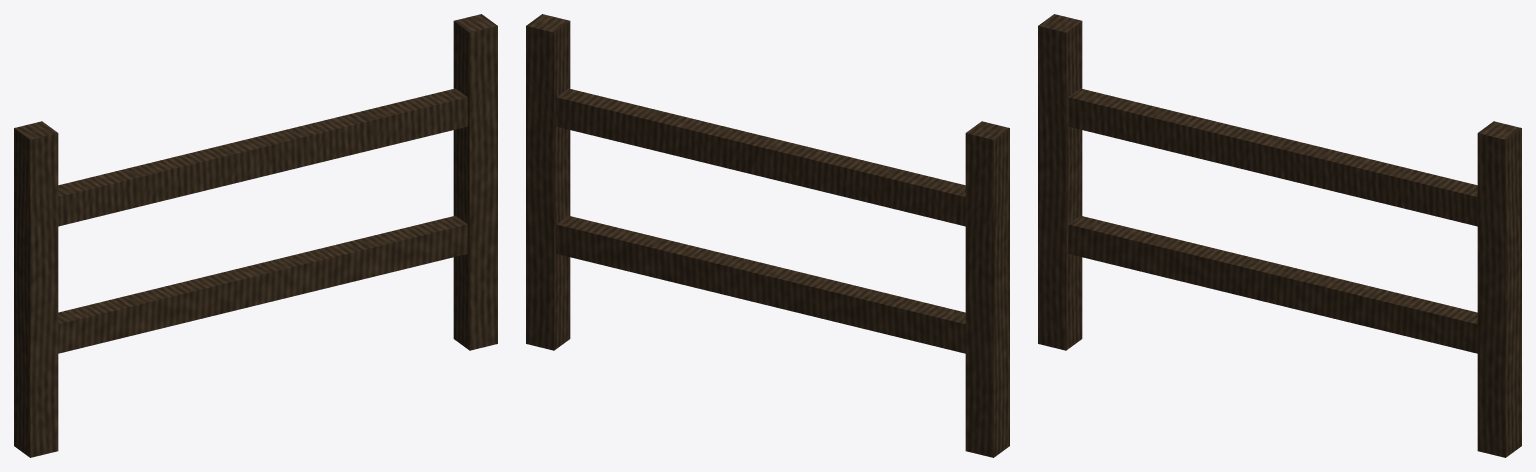
The model's file is Fence_Timber_2m.glb.
3 views of the same model, side by side, from view 1: azimuth 30°, elevation 25°; view 2: azimuth 150°, elevation 25°; view 3: azimuth 330°, elevation 25° (orthographic).
Parts seen in each view (by area): view 1: Fence_Timber_2m; view 2: Fence_Timber_2m; view 3: Fence_Timber_2m.
Part boxes in pixels (x1,y1,x2,y2): Fence_Timber_2m: (14, 14, 497, 457); Fence_Timber_2m: (526, 14, 1009, 457); Fence_Timber_2m: (1038, 14, 1521, 457).
Size of the model in its own units: 2 by 1.3 by 0.12.
Materials: 1 (1 with a texture image).
